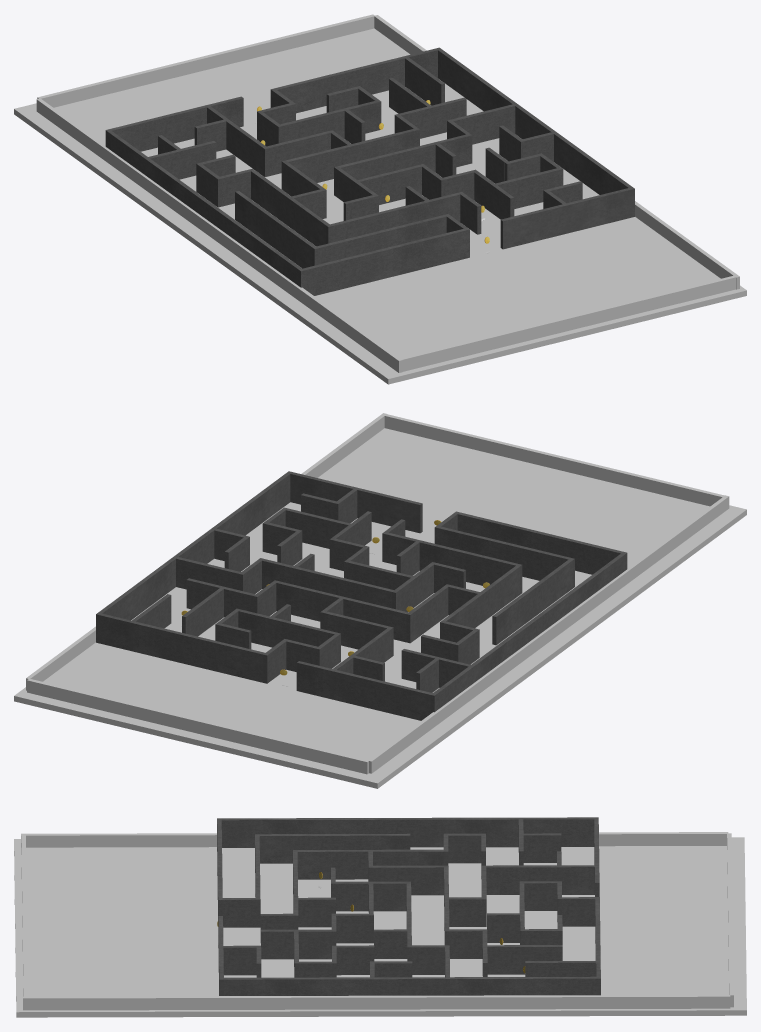
Rendered from Kvadraten.gltf.
The picture shows the model from 3 angles, top to bottom: view 1: azimuth 30°, elevation 25°; view 2: azimuth 150°, elevation 25°; view 3: azimuth 270°, elevation 25°; orthographic projection. The views are drawn at different scales.
Parts seen in each view (by area): view 1: Cube, Curve.057, Curve.001, Curve.055, Curve.056, Curve.026, Curve.054, Curve.053, Curve.024, Curve.025, Curve.005, Curve.014 (+30 smaller); view 2: Cube, Curve.057, Curve.024, Curve.056, Curve.055, Curve.026, Curve.025, Curve.053, Curve.001, Curve.054, Curve.014, Curve.005 (+37 smaller); view 3: Cube, Curve.058, Curve.053, Curve.026, Curve.057, Curve.049, Curve.050, Curve.048, Curve.034, Curve.045, Curve.033, Curve.047 (+29 smaller).
Boxes of the visible parts, left/top/right/bottom form: Cube: left=14, top=28, right=746, bottom=384; Curve.057: left=36, top=98, right=402, bottom=372; Curve.001: left=298, top=228, right=469, bottom=295; Curve.055: left=400, top=275, right=735, bottom=371; Curve.056: left=37, top=14, right=374, bottom=107; Curve.026: left=436, top=48, right=631, bottom=194; Curve.054: left=500, top=187, right=634, bottom=249; Curve.053: left=105, top=129, right=301, bottom=285; Curve.024: left=275, top=47, right=440, bottom=113; Curve.025: left=109, top=96, right=243, bottom=151; Curve.005: left=326, top=192, right=463, bottom=243; Curve.014: left=286, top=128, right=419, bottom=182; Cube: left=14, top=428, right=746, bottom=788; Curve.057: left=368, top=495, right=729, bottom=773; Curve.024: left=96, top=613, right=264, bottom=682; Curve.056: left=27, top=678, right=368, bottom=774; Curve.055: left=384, top=414, right=725, bottom=506; Curve.026: left=96, top=473, right=290, bottom=643; Curve.025: left=296, top=661, right=432, bottom=720; Curve.053: left=430, top=553, right=624, bottom=713; Curve.001: left=454, top=511, right=627, bottom=574; Curve.054: left=287, top=471, right=422, bottom=533; Curve.014: left=273, top=580, right=408, bottom=642; Curve.005: left=382, top=531, right=522, bottom=594; Cube: left=14, top=837, right=746, bottom=1017; Curve.058: left=23, top=995, right=730, bottom=1010; Curve.053: left=221, top=817, right=598, bottom=847; Curve.026: left=224, top=976, right=600, bottom=995; Curve.057: left=21, top=832, right=728, bottom=847; Curve.049: left=297, top=849, right=448, bottom=879; Curve.050: left=259, top=833, right=410, bottom=863; Curve.048: left=486, top=865, right=599, bottom=894; Curve.034: left=261, top=929, right=336, bottom=959; Curve.045: left=335, top=881, right=410, bottom=911; Curve.033: left=487, top=945, right=562, bottom=974; Curve.047: left=373, top=865, right=448, bottom=895.
Size of the model in its own units: 46.68 by 4.18 by 82.62.
